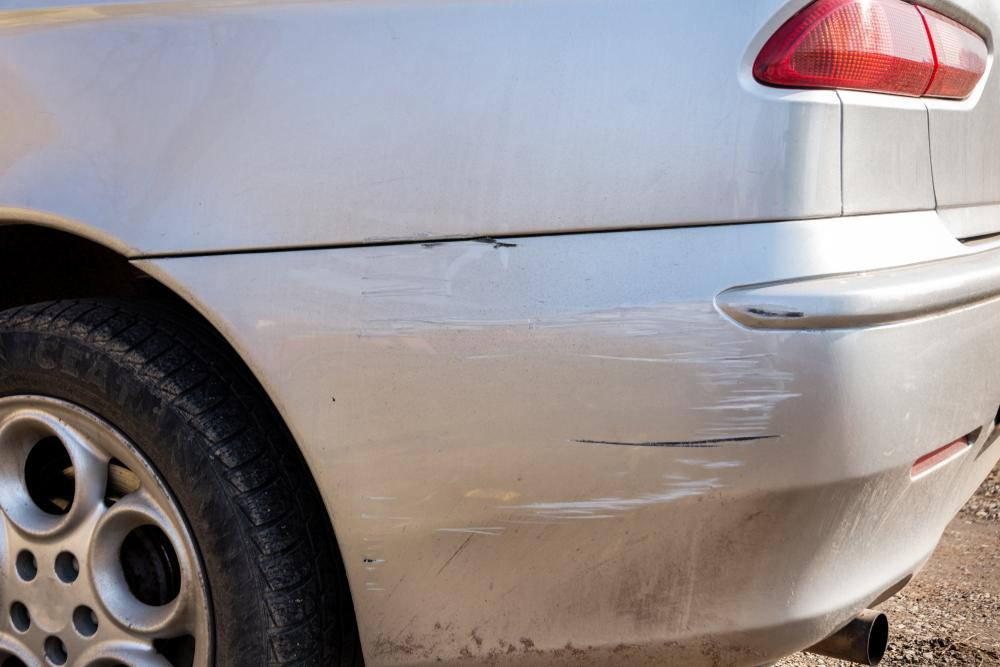scratch: (345, 233, 837, 606)
